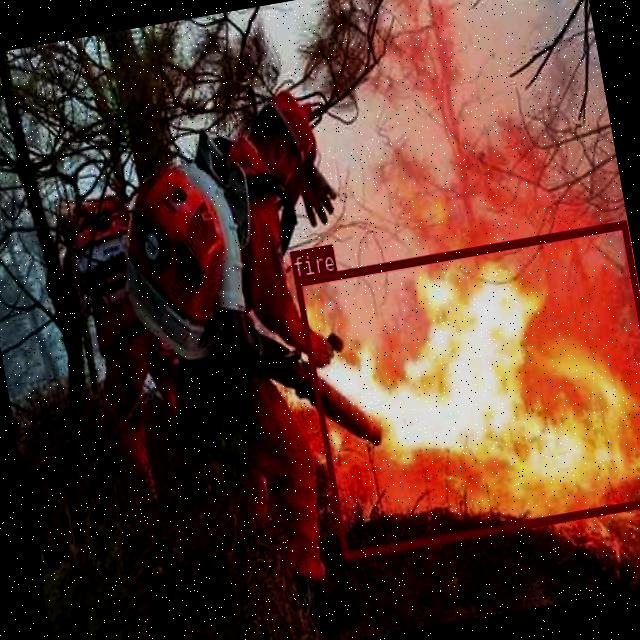fire: (293, 219, 640, 558)
